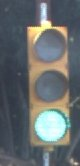Green: (17, 18, 69, 146)
